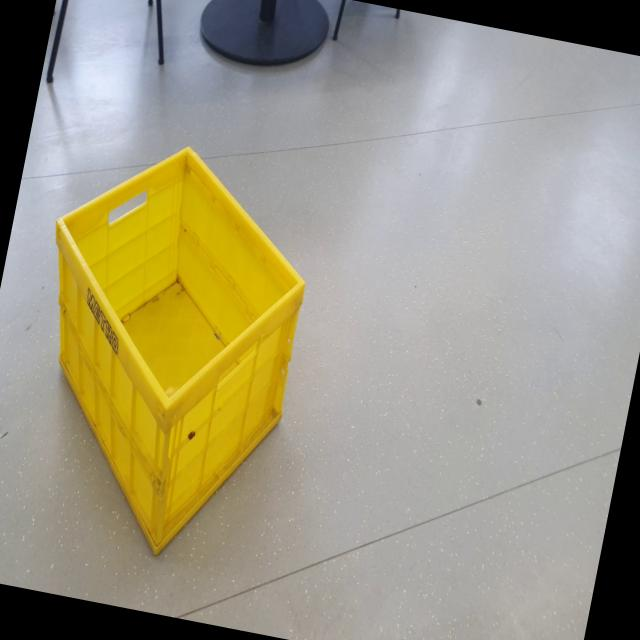box: (0, 115, 333, 583)
